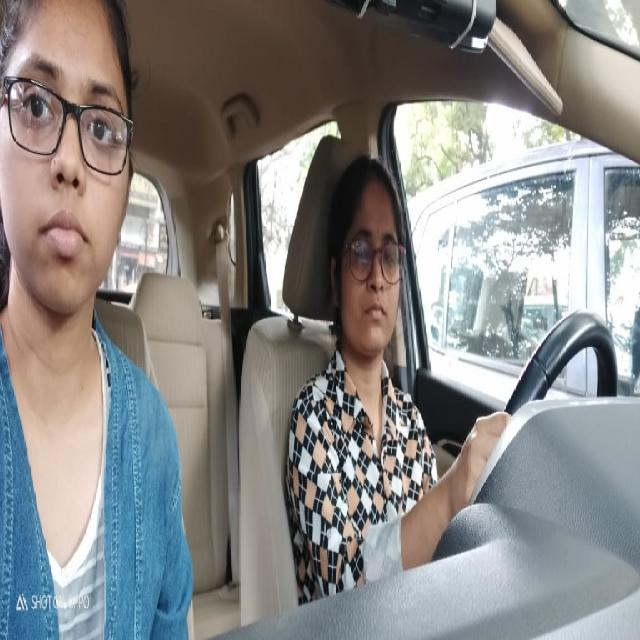person: (1, 0, 140, 320), (324, 152, 409, 376)
